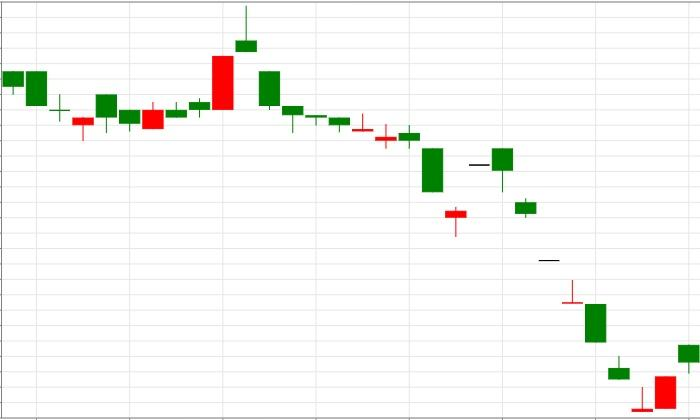three_black_crows_fall: (119, 6, 304, 133)
